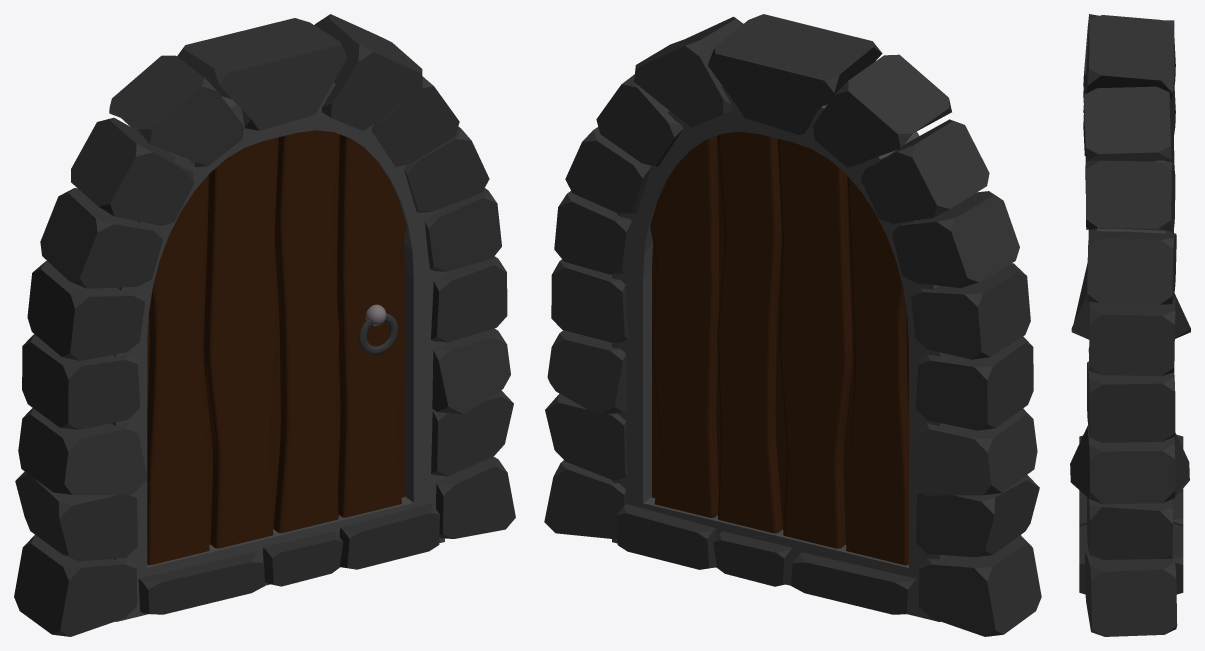
File: porte.fbx
3 renders of one model, left to right at view 1: azimuth 30°, elevation 25°; view 2: azimuth 150°, elevation 25°; view 3: azimuth 270°, elevation 25°, orthographic. The views are drawn at different scales.
Visible parts, largest first — view 1: Cube.003, Cube.004, Cube.005, Cube, Cube.002, Cube.022, Cube.013, Cube.006, Cube.012, Cube.011, Cube.008, Cube.010 (+15 smaller); view 2: Cube.003, Cube.004, Cube.005, Cube, Cube.002, Cube.022, Cube.013, Cube.006, Cube.012, Cube.011, Cube.008, Cube.010 (+14 smaller); view 3: Cube.014, Cube.016, Cube.021, Cube.019, Cube.022, Cube.018, Cube.020, Cube.017, Cube.015, Cube.025, Cube.008, Cube.024 (+3 smaller).
Boxes of the visible parts, x1,y1,x2,y2 form: Cube.003: (203,137,278,548); Cube.004: (273,130,339,533); Cube.005: (337,134,406,517); Cube: (112,83,444,621); Cube.002: (147,174,209,565); Cube.022: (177,18,347,130); Cube.013: (109,55,243,167); Cube.006: (14,535,136,636); Cube.012: (71,117,194,225); Cube.011: (40,188,162,288); Cube.008: (18,408,147,495); Cube.010: (27,260,145,360); Cube.003: (777,139,852,548); Cube.004: (717,131,782,533); Cube.005: (650,136,719,517); Cube: (612,85,945,621); Cube.002: (846,176,908,565); Cube.022: (708,14,882,134); Cube.013: (813,54,951,167); Cube.006: (919,535,1041,636); Cube.012: (861,119,989,223); Cube.011: (892,191,1019,288); Cube.008: (908,408,1037,495); Cube.010: (911,263,1030,359); Cube.014: (1085,551,1177,636); Cube.016: (1070,426,1189,504); Cube.021: (1084,86,1173,162); Cube.019: (1087,230,1176,304); Cube.022: (1083,15,1174,113); Cube.018: (1088,298,1175,376); Cube.020: (1086,160,1175,230); Cube.017: (1087,361,1175,442); Cube.015: (1087,497,1172,559); Cube.025: (1079,523,1183,594); Cube.008: (1071,263,1190,339); Cube.024: (1079,491,1183,525).
Bounding box in the file's own units: 586 × 643 × 144.
